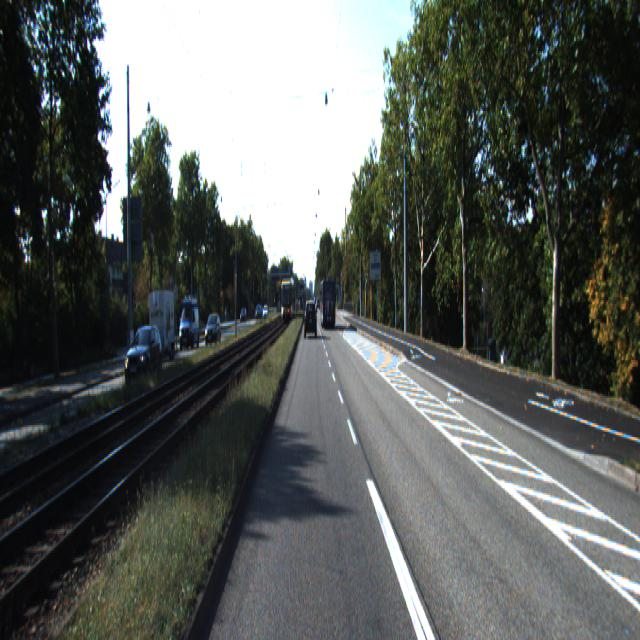Car: (125, 322, 165, 390), (149, 286, 176, 364), (178, 303, 200, 352), (320, 278, 336, 328), (304, 301, 316, 339)
